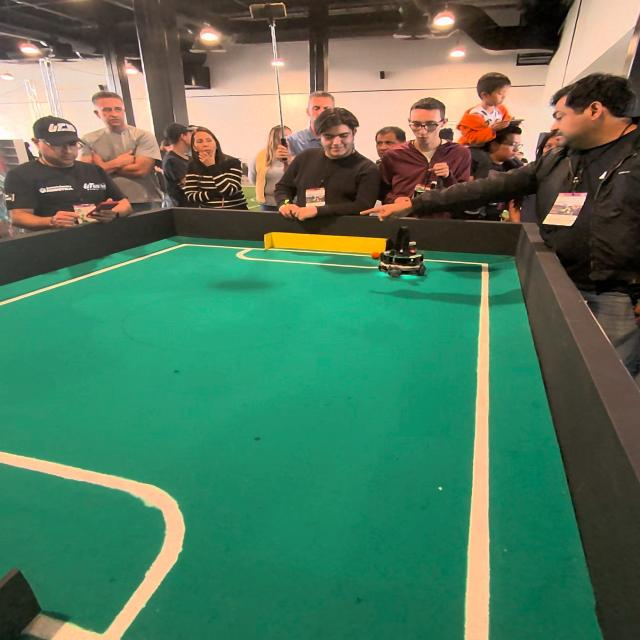Robot: (369, 222, 427, 284)
pelota: (368, 249, 382, 262)
